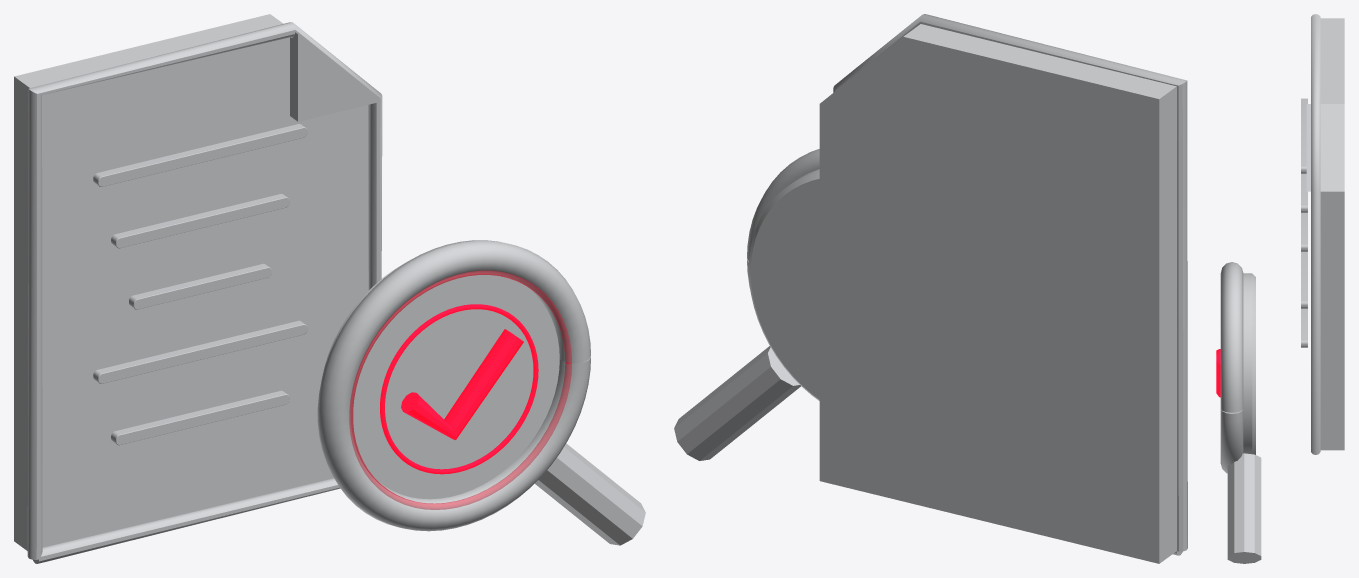
Rendered from 39-audit.glb.
3 views of the same model, side by side, from view 1: azimuth 30°, elevation 25°; view 2: azimuth 150°, elevation 25°; view 3: azimuth 270°, elevation 25° (orthographic). The views are drawn at different scales.
Visible parts, largest first — view 1: BC clear optical glass, BC satin iron, BC internal ruby light, BC ruby optical glass; view 2: BC clear optical glass, BC satin iron; view 3: BC satin iron, BC clear optical glass, BC internal ruby light.
Boxes of the visible parts, x1,y1,x2,y2 form: BC clear optical glass: (14, 14, 559, 550); BC satin iron: (27, 22, 645, 563); BC internal ruby light: (380, 304, 538, 474); BC ruby optical glass: (349, 271, 571, 509); BC clear optical glass: (748, 24, 1176, 563); BC satin iron: (674, 14, 1187, 555); BC satin iron: (1220, 14, 1320, 563); BC clear optical glass: (1243, 18, 1344, 454); BC internal ruby light: (1216, 349, 1220, 397).
Size of the model in its own units: 2.15 by 2 by 0.6217.
